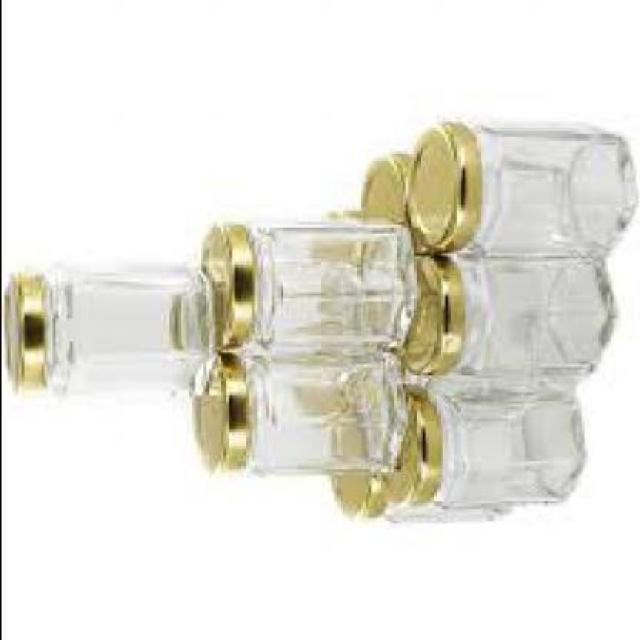GLASS: (37, 257, 205, 392), (242, 218, 418, 344), (466, 122, 637, 250), (418, 373, 578, 501), (236, 347, 401, 470), (450, 250, 612, 373), (378, 498, 512, 520)
METAL: (404, 120, 474, 248), (398, 253, 458, 376), (196, 218, 250, 344), (378, 380, 436, 494), (188, 347, 242, 467), (327, 418, 381, 514), (1, 272, 37, 388), (355, 153, 408, 224)
